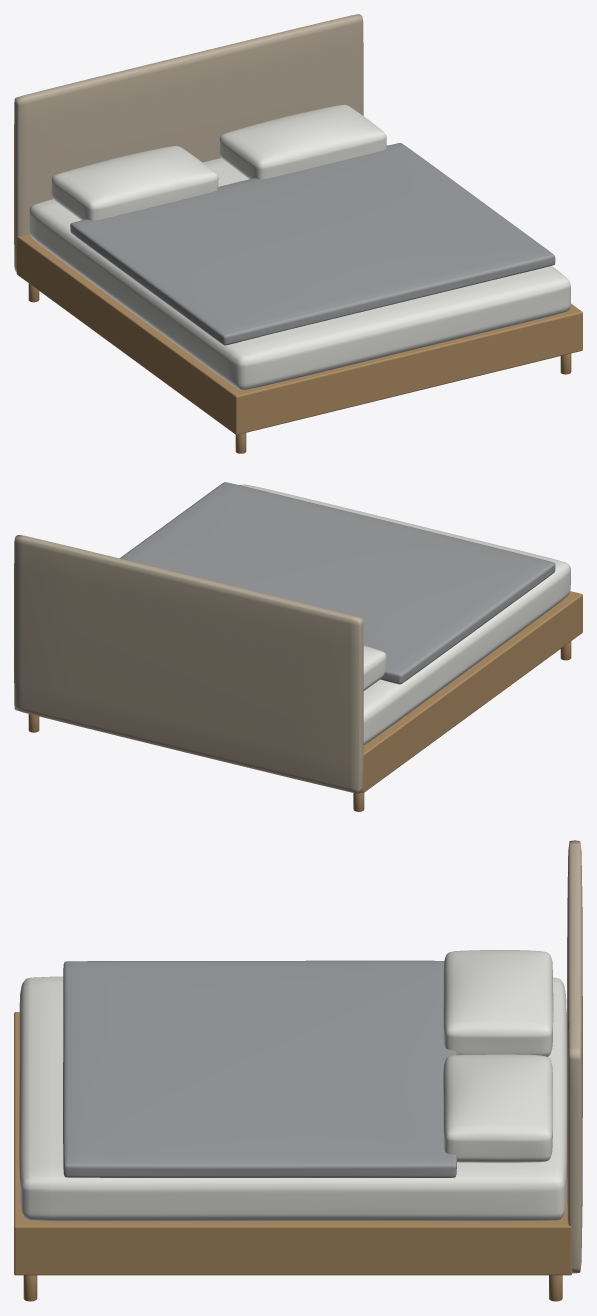
File: doppelbett.glb
The picture shows the model from 3 angles, top to bottom: view 1: azimuth 30°, elevation 25°; view 2: azimuth 150°, elevation 25°; view 3: azimuth 270°, elevation 25°; orthographic projection. The views are drawn at different scales.
Parts seen in each view (by area): view 1: Decke, Kopfteil, Matratze, Rahmen, Kissen0, Kissen1; view 2: Kopfteil, Decke, Rahmen, Matratze, Kissen0; view 3: Decke, Matratze, Rahmen, Kissen1, Kissen0, Kopfteil.
Part boxes in pixels (left/top/right/bottom): Decke: left=70, top=143, right=555, bottom=345; Kopfteil: left=14, top=14, right=363, bottom=271; Matratze: left=29, top=145, right=570, bottom=390; Rahmen: left=16, top=234, right=582, bottom=434; Kissen0: left=51, top=145, right=218, bottom=220; Kissen1: left=219, top=104, right=386, bottom=179; Kopfteil: left=14, top=535, right=363, bottom=793; Decke: left=119, top=482, right=555, bottom=684; Rahmen: left=361, top=591, right=582, bottom=792; Matratze: left=239, top=484, right=570, bottom=745; Kissen0: left=363, top=645, right=386, bottom=690; Decke: left=63, top=960, right=457, bottom=1177; Matratze: left=19, top=976, right=566, bottom=1221; Rahmen: left=14, top=1012, right=572, bottom=1275; Kissen1: left=443, top=1054, right=552, bottom=1162; Kissen0: left=443, top=950, right=553, bottom=1056; Kopfteil: left=567, top=840, right=582, bottom=1273.
Size of the model in its own units: 1.86 by 1.02 by 2.08.
